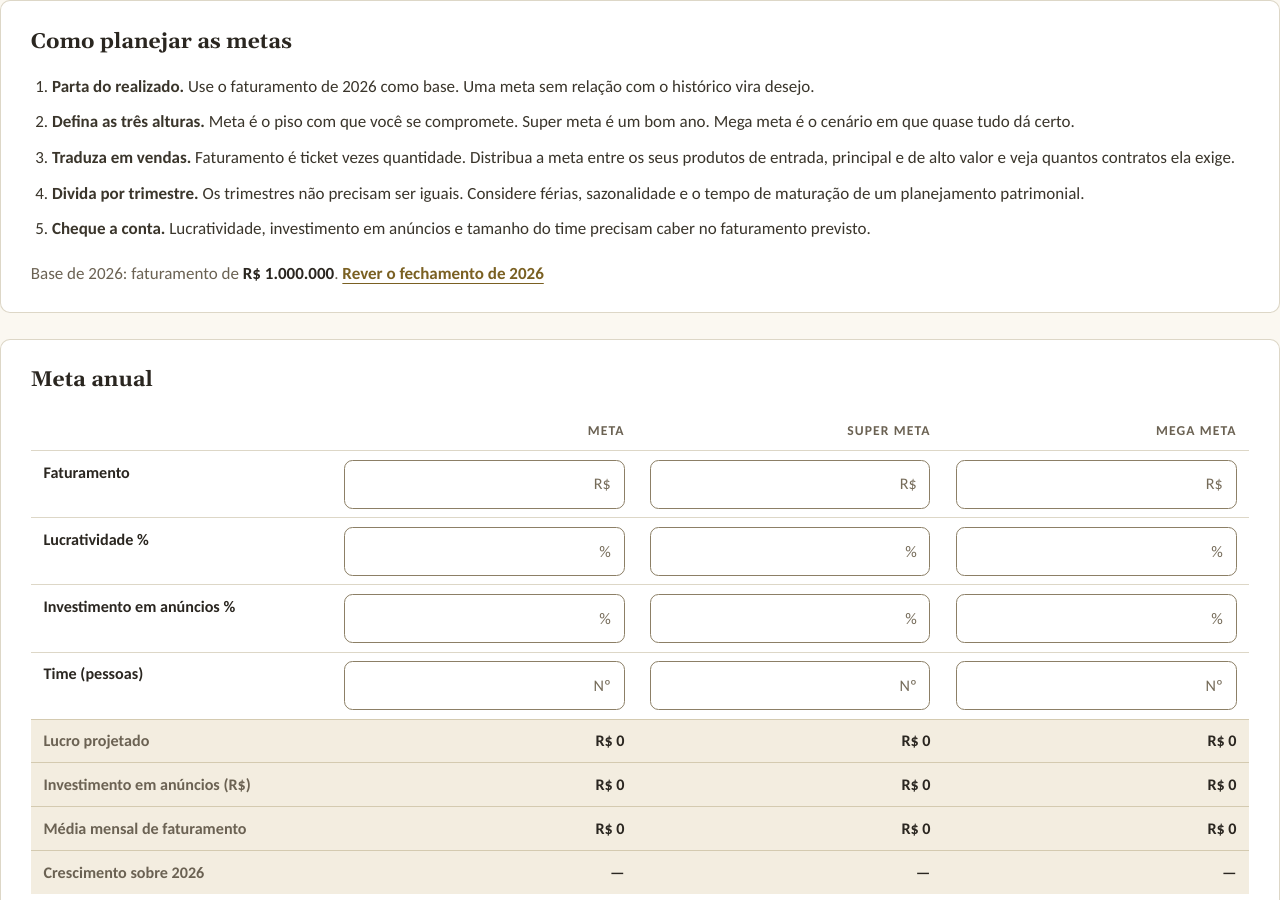
Scenario: calcula-meta-anual-e-crescimento
The width and height of the screenshot is (1280, 900).
Type "R$ 1.200.000,00" into the field named "Faturamento · Meta".
click(484, 484); type("R$ 1.200.000,00")  # box [344,460,624,509]
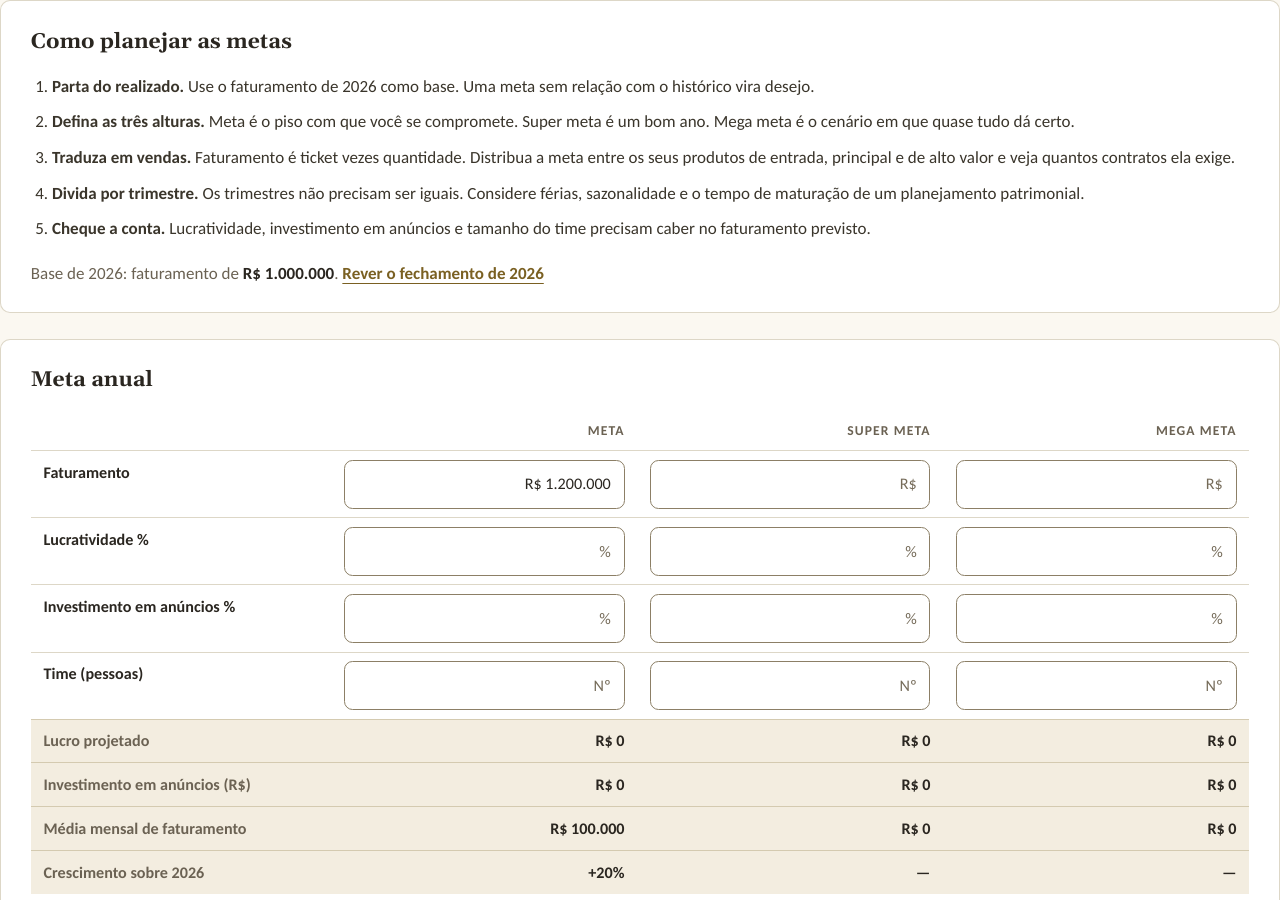
Type "30" into the field named "Lucratividade % · Meta".
click(484, 551); type("30")  # box [344,527,624,576]
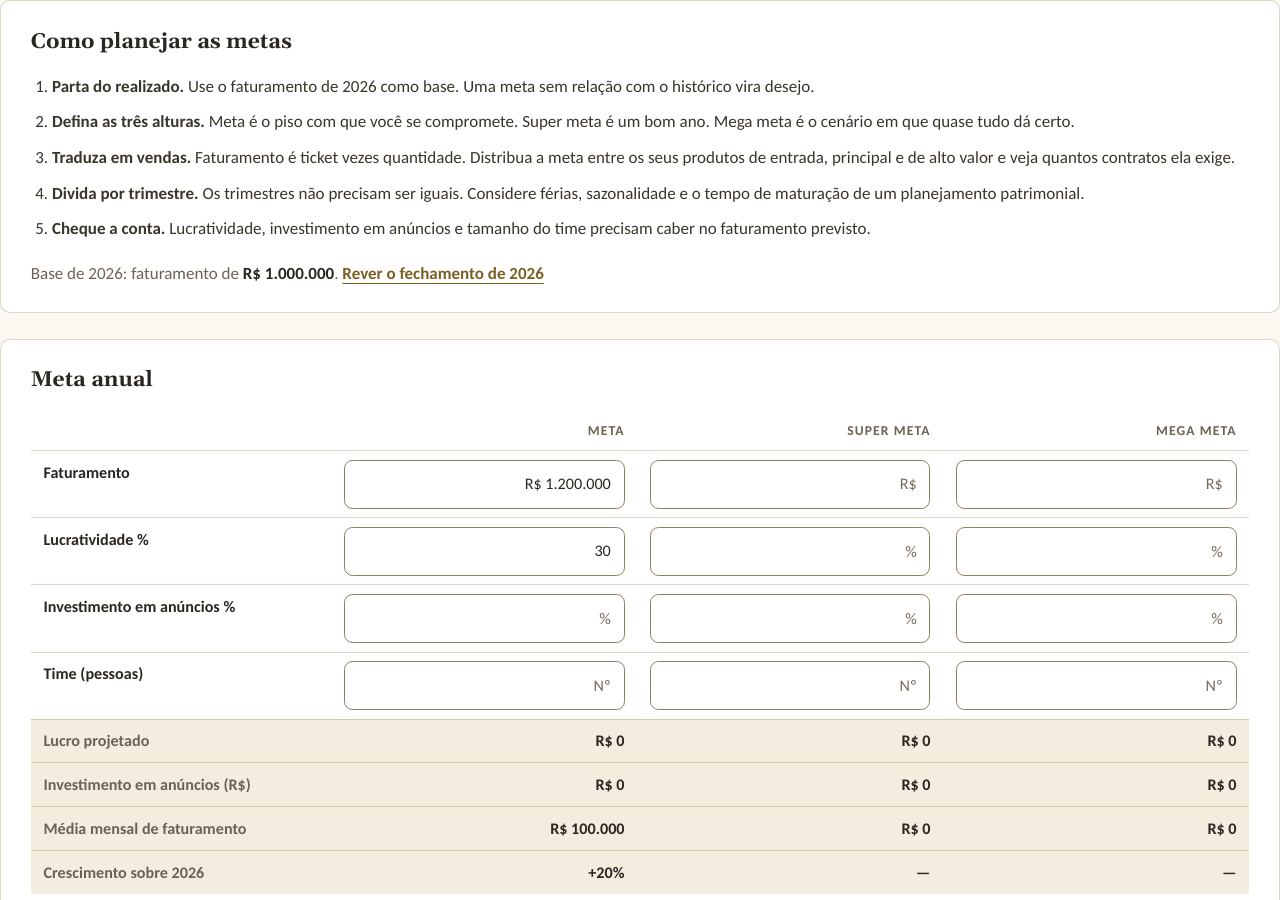
Leave the field named "Lucratividade % · Meta", box [344,527,624,576]
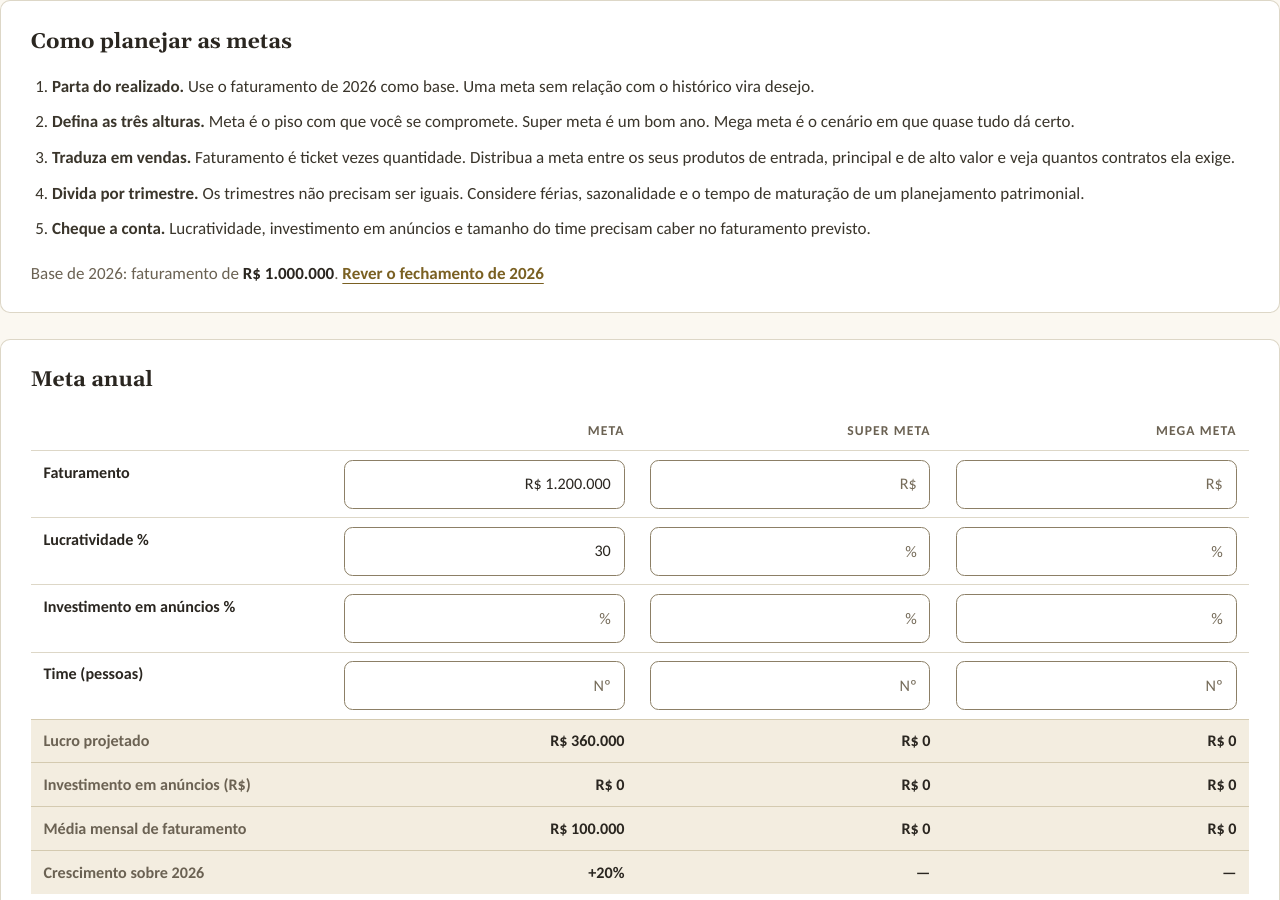
Check: the cell with test id "mensal-meta" reads "R$ 100.000", box [550,819,624,838]
Check: the cell with test id "cresc-meta" reads "+20%", box [588,863,624,882]
Check: the cell with test id "lucro-meta" reads "R$ 360.000", box [550,731,624,750]
